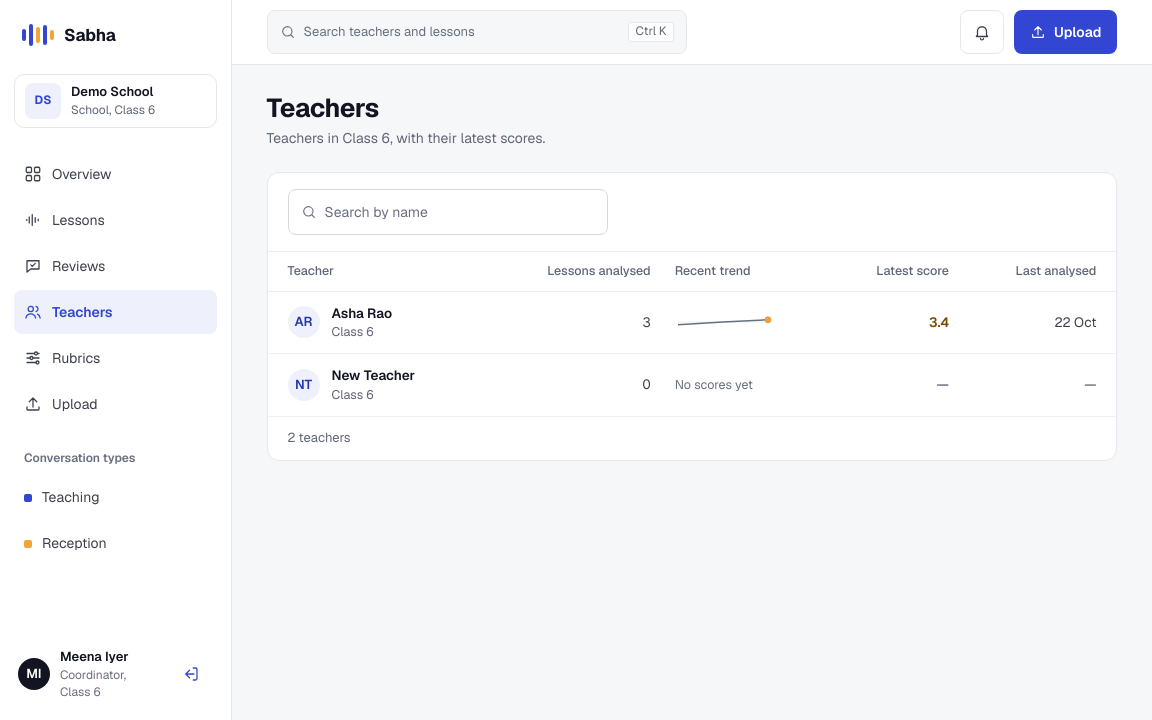
Test: the people page › lists each person with real counts, latest score and trend, and opens their lessons
expect the heading "Teachers" is shown: met, box [266,91,379,125]
expect the picture named "Last 3 lessons: 2.5 to 3.4, latest 3.4" is shown: met, box [675,308,771,336]
Click the link "Asha Rao": [362, 313] box [332,304,392,323]
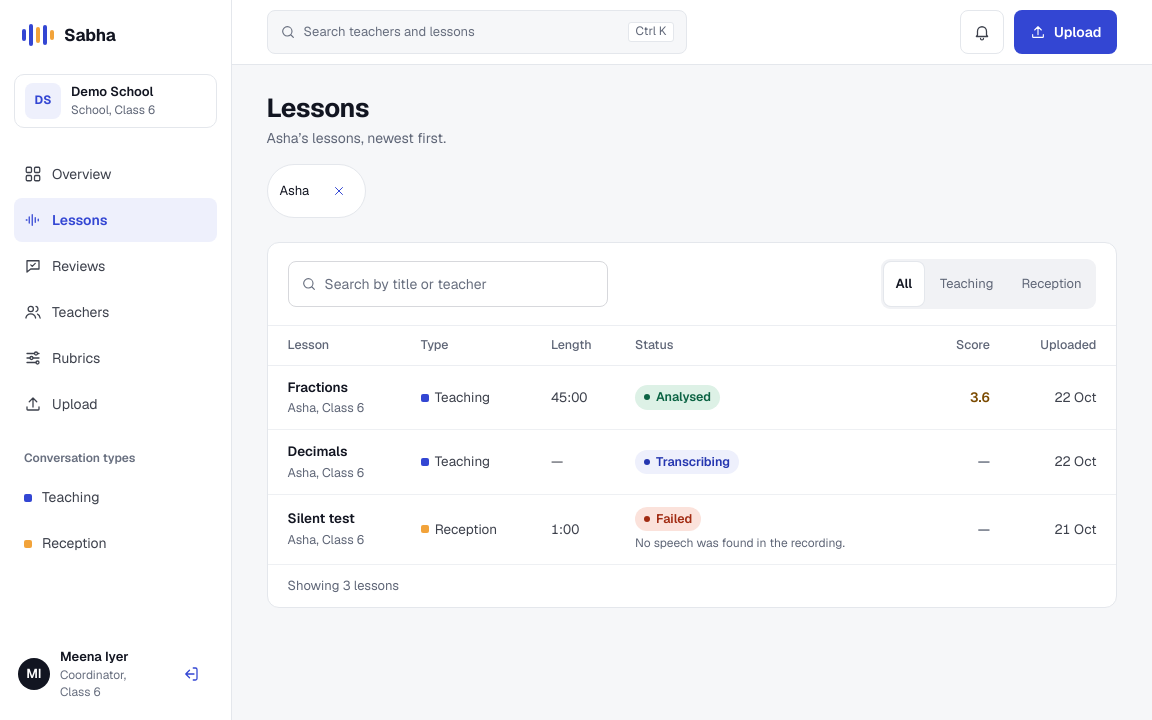
expect the button named "Show everyone" is shown: met, box [317,170,361,214]
